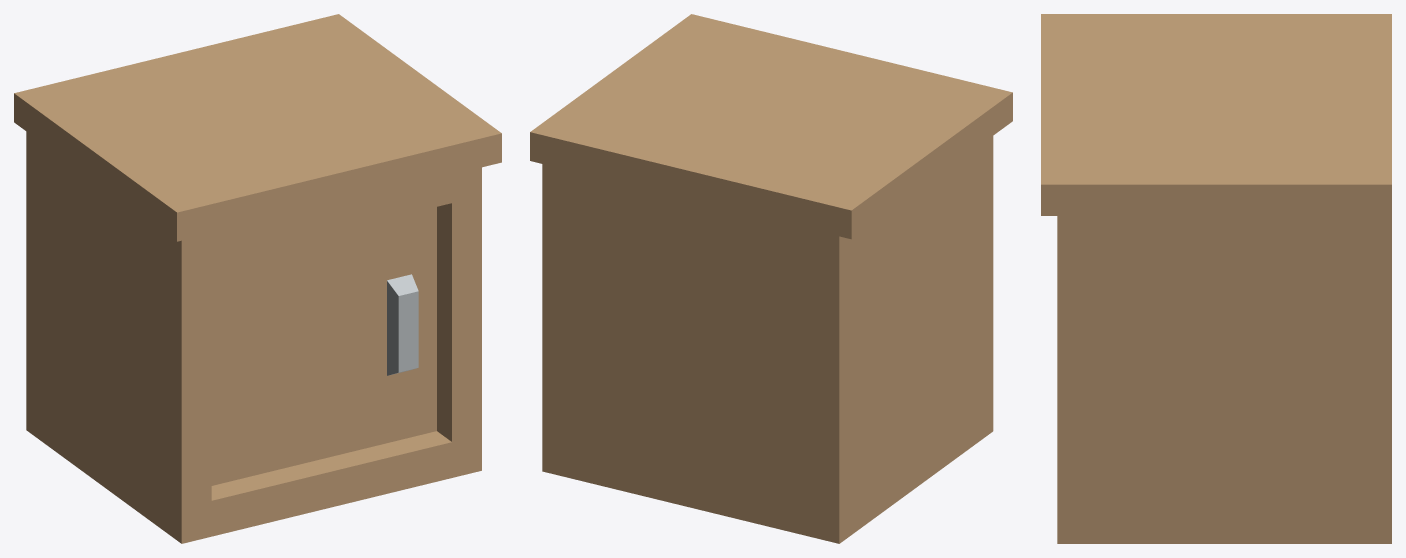
Rendered from nightstand.glb.
The picture shows the model from 3 angles, left to right: view 1: azimuth 30°, elevation 25°; view 2: azimuth 150°, elevation 25°; view 3: azimuth 270°, elevation 25°; orthographic projection. The views are drawn at different scales.
Visible parts, largest first — view 1: nightstand; view 2: nightstand; view 3: nightstand.
Part boxes in pixels (x1=…): nightstand: x1=14, y1=14, x2=501, y2=543; nightstand: x1=530, y1=14, x2=1012, y2=543; nightstand: x1=1041, y1=14, x2=1391, y2=543.
Bounding box in the file's own units: 0.46 × 0.46 × 0.4.
